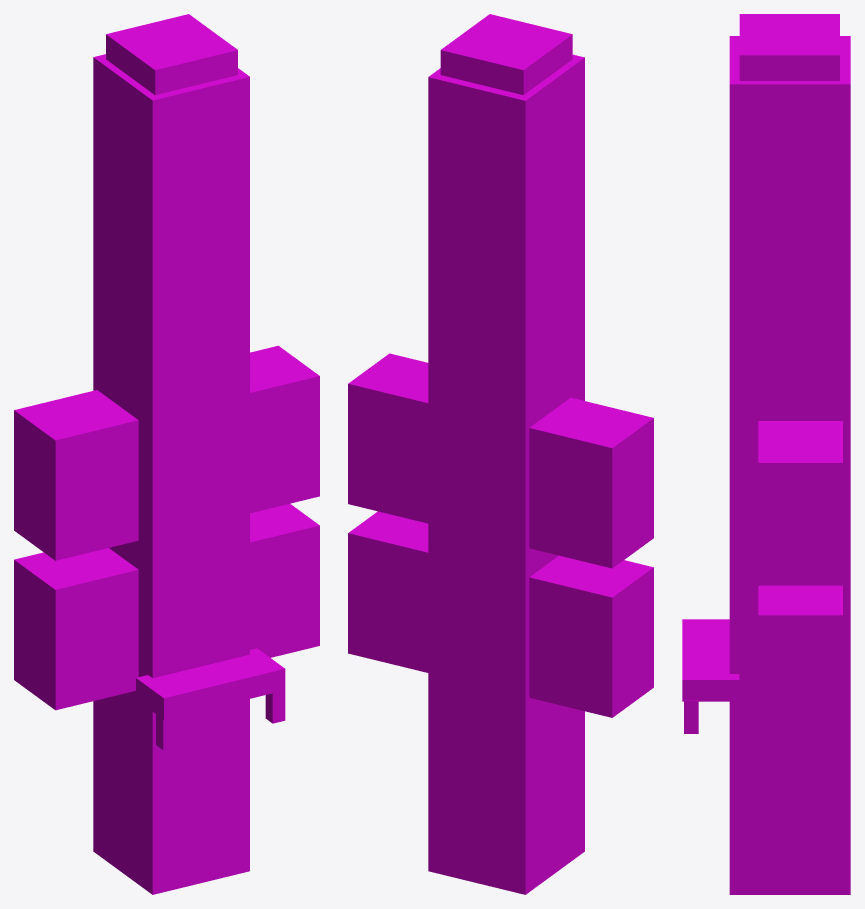
File: SM_MedicalTrayBoomTowerCollider.fbx
3 renders of one model, left to right at view 1: azimuth 30°, elevation 25°; view 2: azimuth 150°, elevation 25°; view 3: azimuth 270°, elevation 25°, orthographic. The views are drawn at different scales.
Visible parts, largest first — view 1: MedicalTrayBoomTowerCollision; view 2: MedicalTrayBoomTowerCollision; view 3: MedicalTrayBoomTowerCollision.
Part boxes in pixels (x1,y1,x2,y2): MedicalTrayBoomTowerCollision: (14,14,319,894); MedicalTrayBoomTowerCollision: (348,14,653,894); MedicalTrayBoomTowerCollision: (682,14,850,894).
Bounding box in the file's own units: 38.64 × 114 × 20.91.
